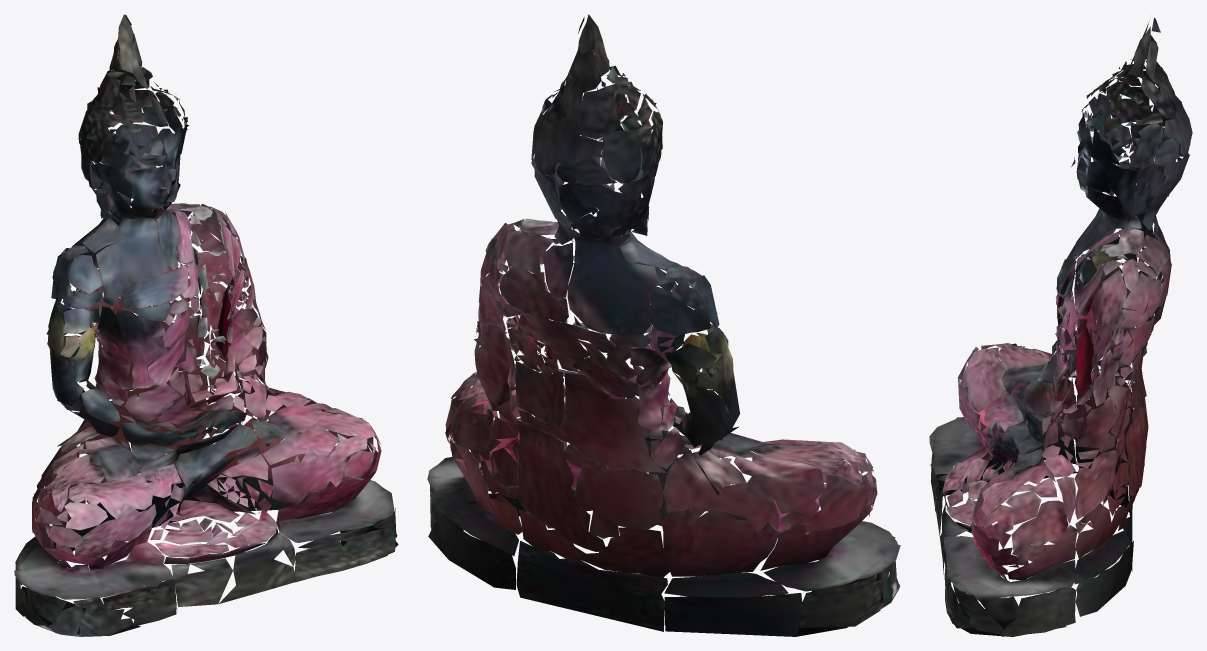
File: far.glb
3 renders of one model, left to right at view 1: azimuth 30°, elevation 25°; view 2: azimuth 150°, elevation 25°; view 3: azimuth 270°, elevation 25°, orthographic. The views are drawn at different scales.
Parts seen in each view (by area): view 1: statue-022; view 2: statue-022; view 3: statue-022.
Boxes of the visible parts, x1,y1,x2,y2 form: statue-022: [14, 14, 398, 636]; statue-022: [427, 14, 900, 636]; statue-022: [929, 17, 1192, 636].
Size of the model in its own units: 0.7486 by 0.9973 by 0.4501.
Materials: 1 (1 with a texture image).
